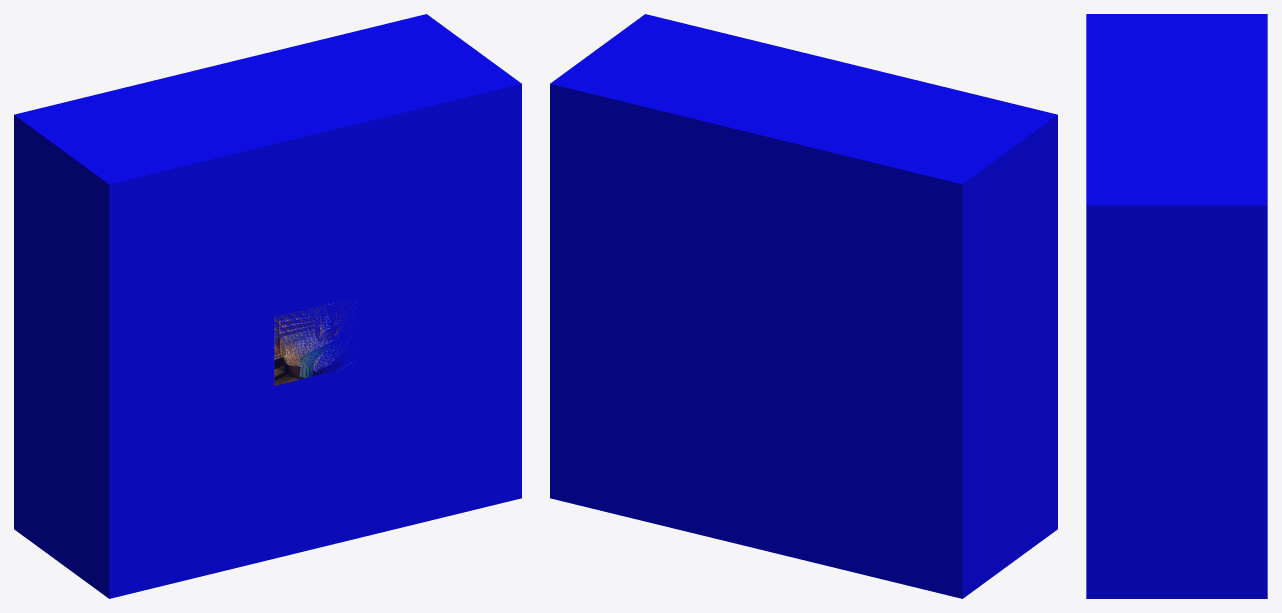
The picture shows the model from 3 angles, left to right: view 1: azimuth 30°, elevation 25°; view 2: azimuth 150°, elevation 25°; view 3: azimuth 270°, elevation 25°; orthographic projection. The views are drawn at different scales.
Parts seen in each view (by area): view 1: PhotoPlane; view 2: PhotoPlane; view 3: PhotoPlane.
Boxes of the visible parts, x1=… form: PhotoPlane: x1=14, y1=14, x2=521, y2=598; PhotoPlane: x1=550, y1=14, x2=1057, y2=598; PhotoPlane: x1=1086, y1=14, x2=1267, y2=598.
Bounding box in the file's own units: 2.5 × 2.4 × 1.
2 materials, 1 textured.
